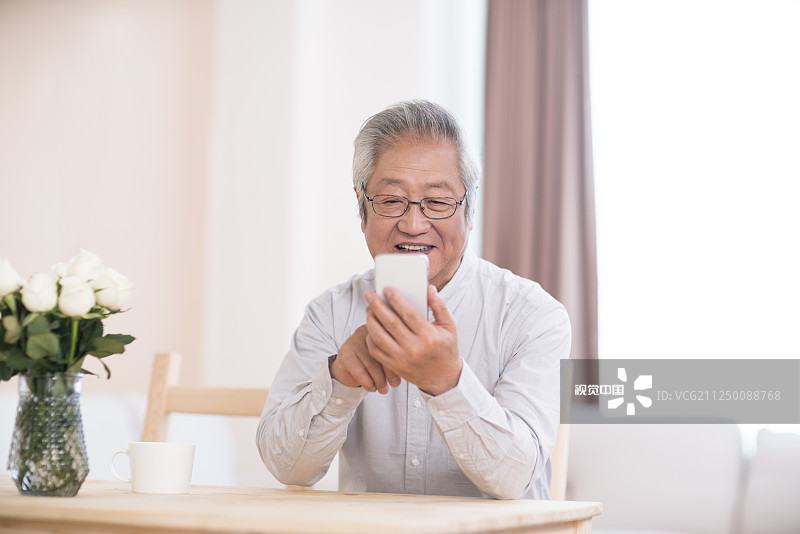reading: (313, 271, 483, 407)
